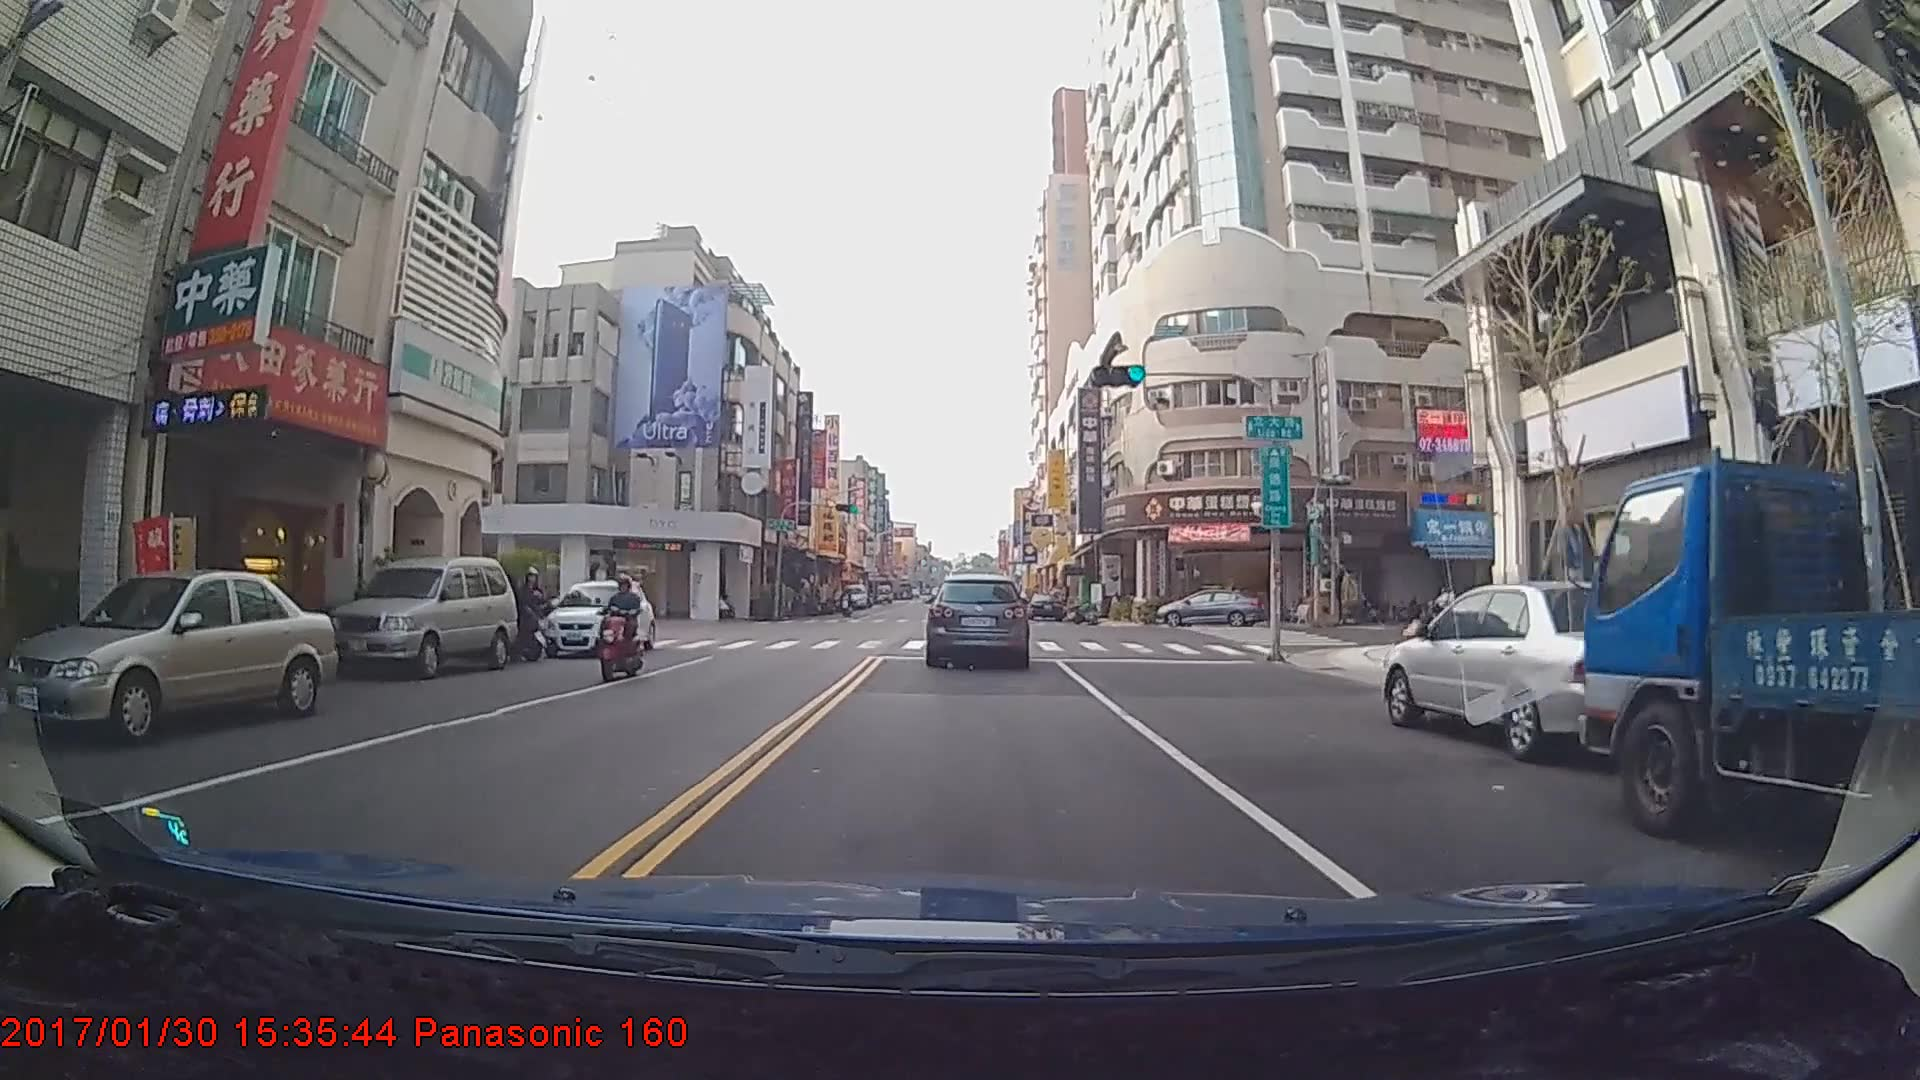rider: (590, 574, 642, 683), (834, 586, 856, 621)
vehicle: (1580, 457, 1920, 903), (0, 567, 338, 746), (1382, 579, 1693, 763), (323, 553, 518, 678), (925, 574, 1029, 668), (542, 578, 647, 657), (1155, 587, 1263, 626), (1025, 589, 1063, 620), (841, 581, 866, 609)
